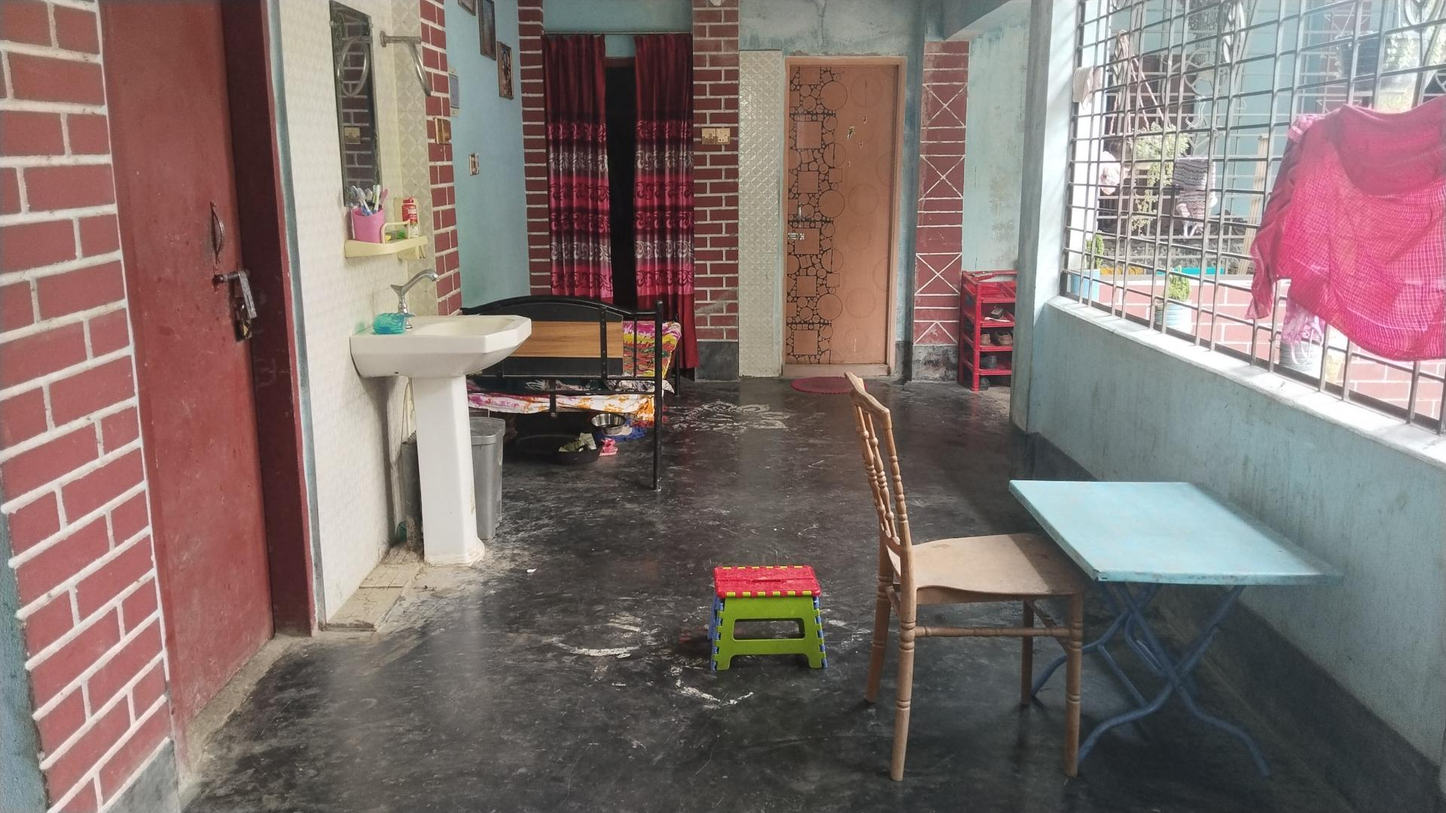Chair: (847, 374, 1082, 777)
Door: (782, 61, 901, 370)
Stool: (707, 561, 833, 670)
Table: (1008, 476, 1339, 778)
